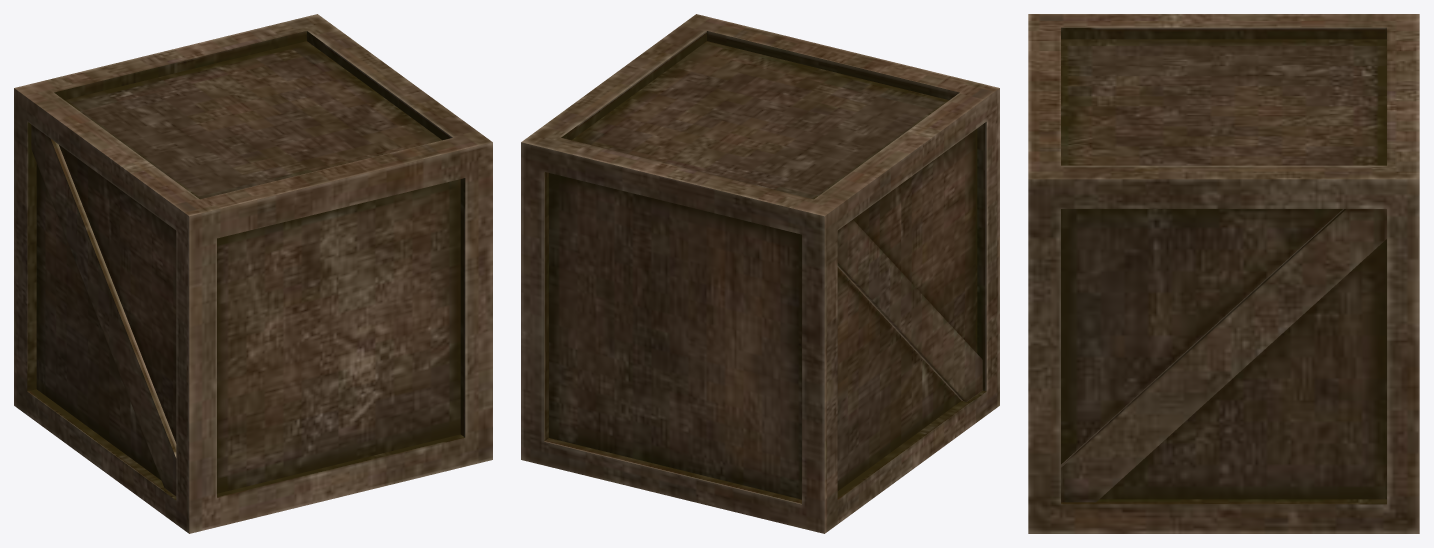
File: boxes(1).fbx
3 views of the same model, side by side, from view 1: azimuth 30°, elevation 25°; view 2: azimuth 150°, elevation 25°; view 3: azimuth 270°, elevation 25° (orthographic). The views are drawn at different scales.
Visible parts, largest first — view 1: Box1; view 2: Box1; view 3: Box1.
Boxes of the visible parts, x1,y1,x2,y2 form: Box1: [14, 14, 492, 533]; Box1: [521, 14, 999, 533]; Box1: [1028, 14, 1419, 533].
Size of the model in its own units: 5850 by 5850 by 5850.
